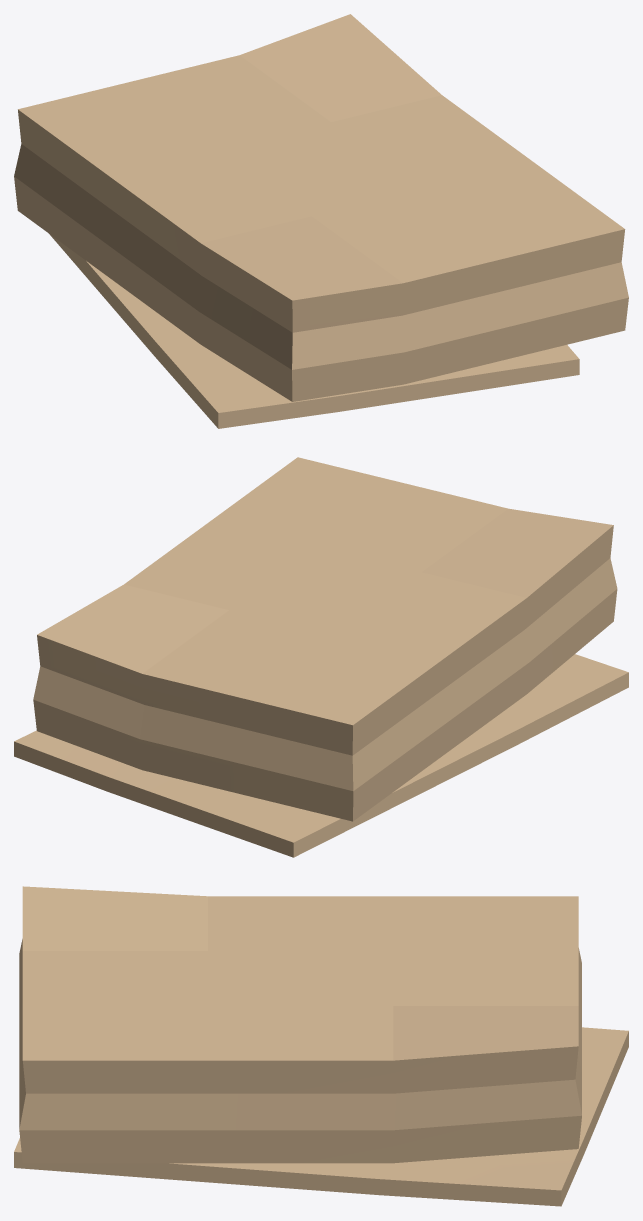
File: paper-old.glb
The picture shows the model from 3 angles, top to bottom: view 1: azimuth 30°, elevation 25°; view 2: azimuth 150°, elevation 25°; view 3: azimuth 270°, elevation 25°; orthographic projection. The views are drawn at different scales.
Parts seen in each view (by area): view 1: paper-old; view 2: paper-old; view 3: paper-old.
Part boxes in pixels (bbox=[...]): paper-old: bbox=[14, 14, 628, 428]; paper-old: bbox=[14, 457, 628, 857]; paper-old: bbox=[14, 886, 628, 1206].
Size of the model in its own units: 0.2588 by 0.0871 by 0.3319.
1 material, 1 textured.
